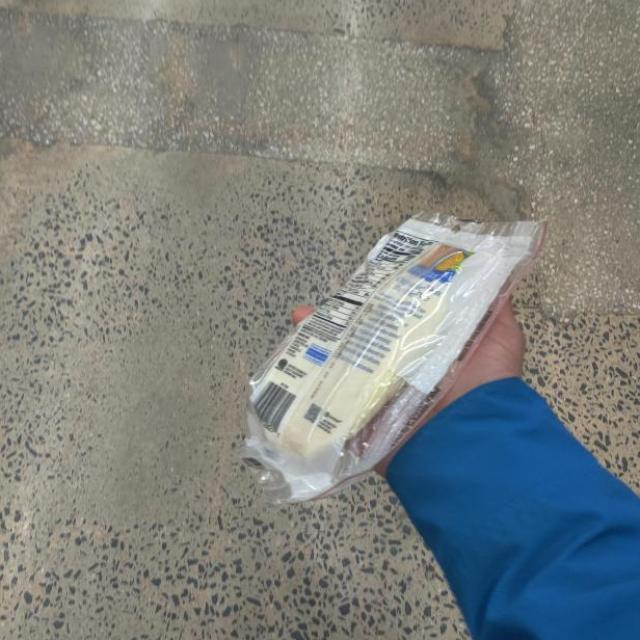Cheese: (246, 214, 545, 489)
